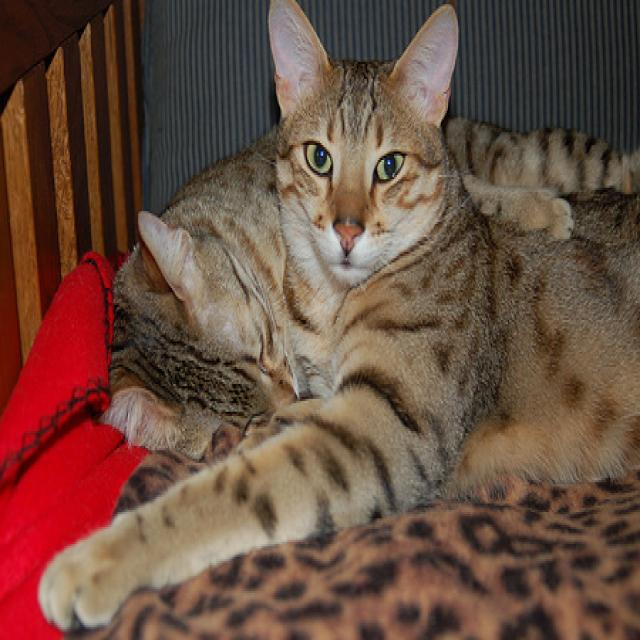Egyptian Mau: (32, 0, 640, 633), (86, 136, 301, 460)
